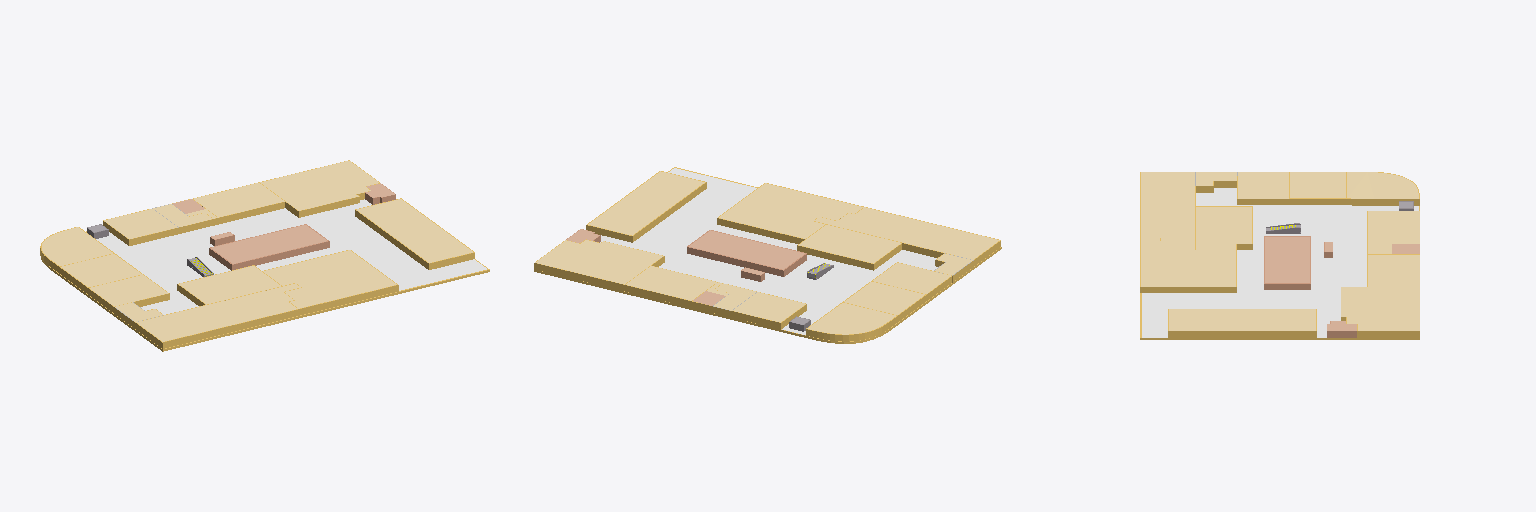
File: logix_noicon_topfloor.obj
3 views of the same model, side by side, from view 1: azimuth 30°, elevation 25°; view 2: azimuth 150°, elevation 25°; view 3: azimuth 270°, elevation 25° (orthographic).
Parts seen in each view (by area): view 1: polySurface25; view 2: polySurface25; view 3: polySurface25.
Boxes of the visible parts, <box> form: polySurface25: <box>40,160,489,351</box>; polySurface25: <box>534,167,1001,343</box>; polySurface25: <box>1140,172,1419,339</box>.
Bounding box in the file's own units: 32.06 × 0.8534 × 23.8.